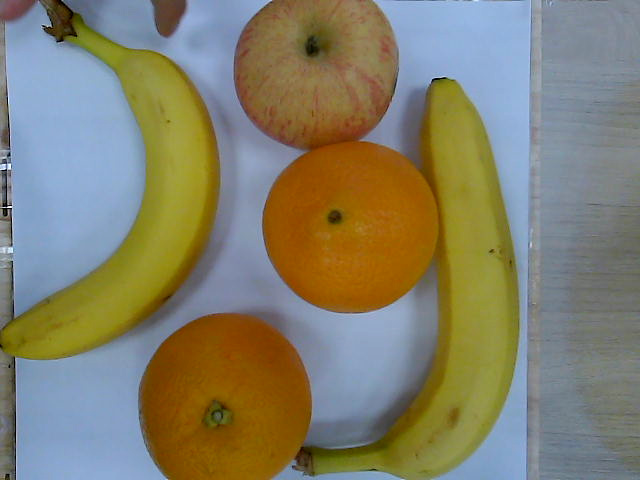fresh_apple: (233, 1, 400, 149)
fresh_banana: (3, 6, 220, 360), (386, 78, 522, 480)
fresh_orange: (262, 141, 437, 315), (140, 316, 311, 480)
